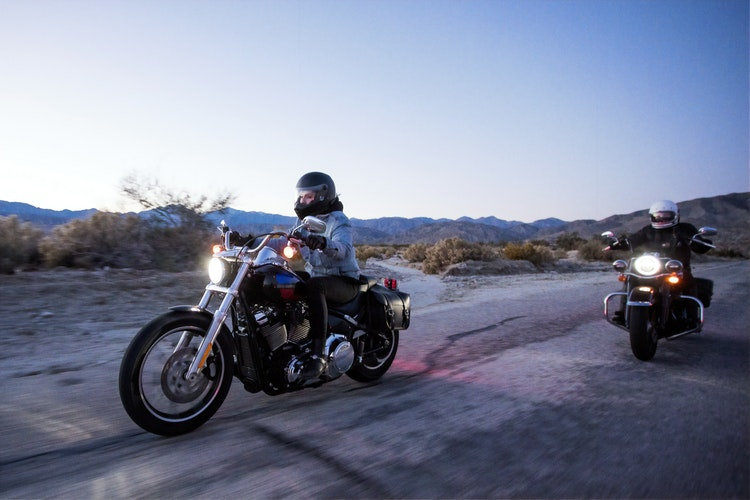helmet: (294, 169, 337, 212), (652, 199, 679, 226)
